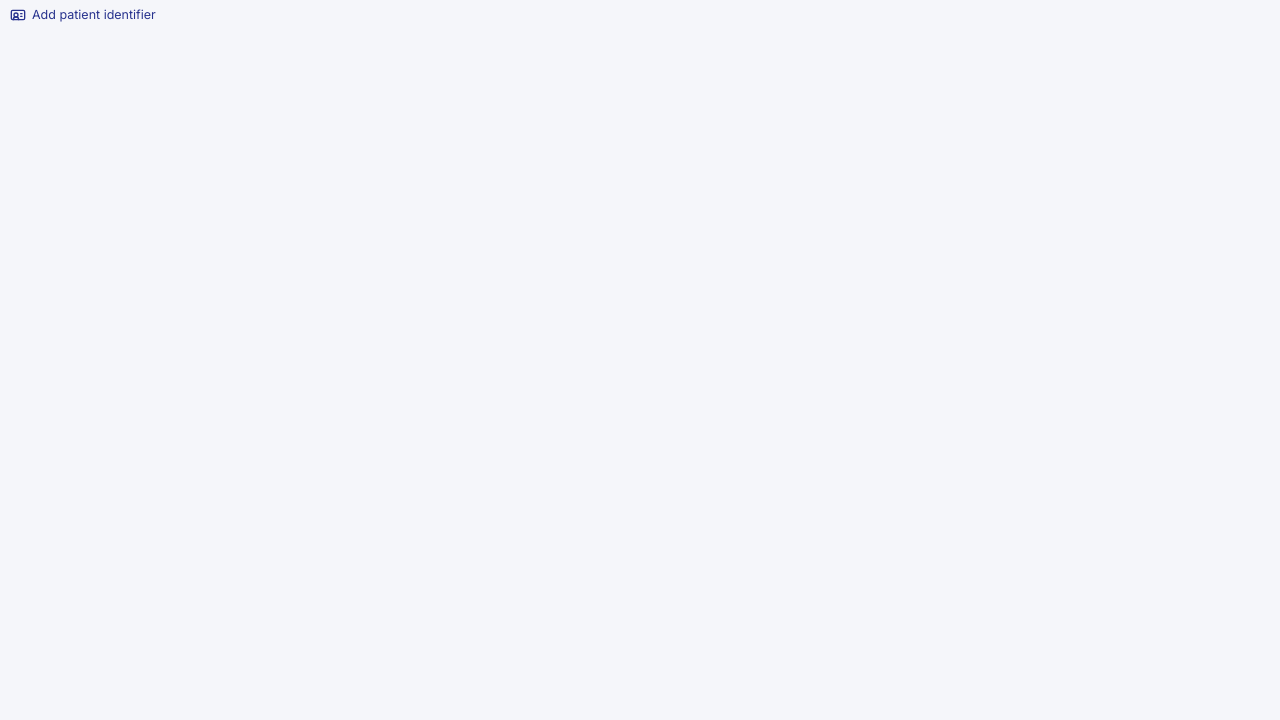
PatientIdentifierEditor — format gates › blocks Save for an email-shaped identifier
The width and height of the screenshot is (1280, 720).
Click the button "Add patient identifier" at (83, 15), box [0,0,166,31]
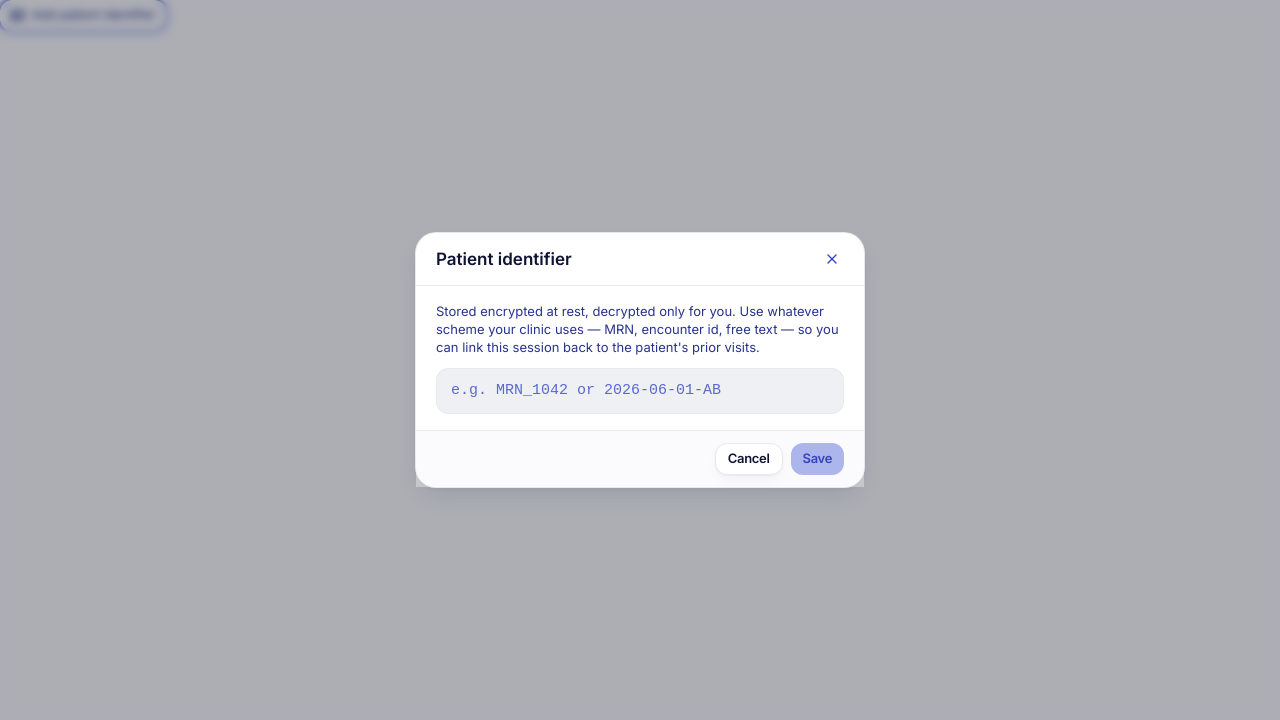
Type "patient@example.com" into the field named "patient identifier value" at (640, 391), box [436,368,844,414]
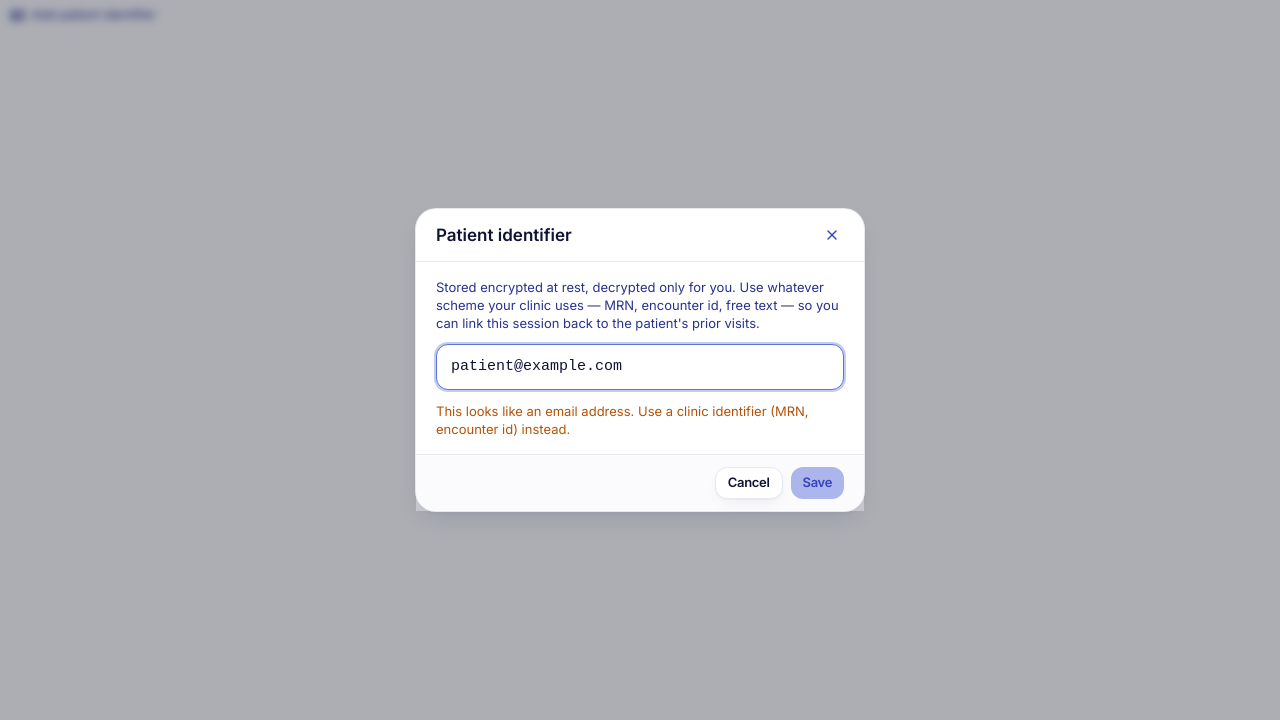
Expected: the button "Save" is disabled, [790,467,844,499]
Expected: the text "email address" is shown, [436,403,809,437]
